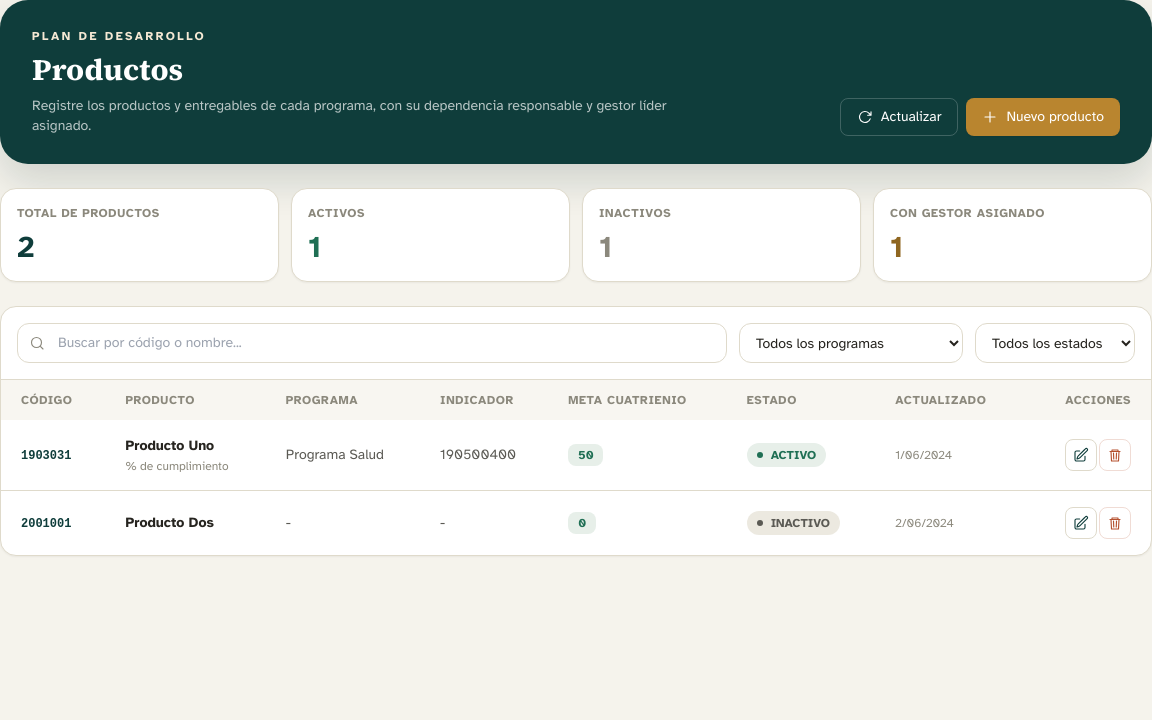
Test: ProductosPage › cierra los modales con el botón Cancelar
Expected: the text "Producto Uno" is shown, [126,437,214,454]
Click the button "Nuevo producto": {"x": 1043, "y": 117} [966,98,1120,136]
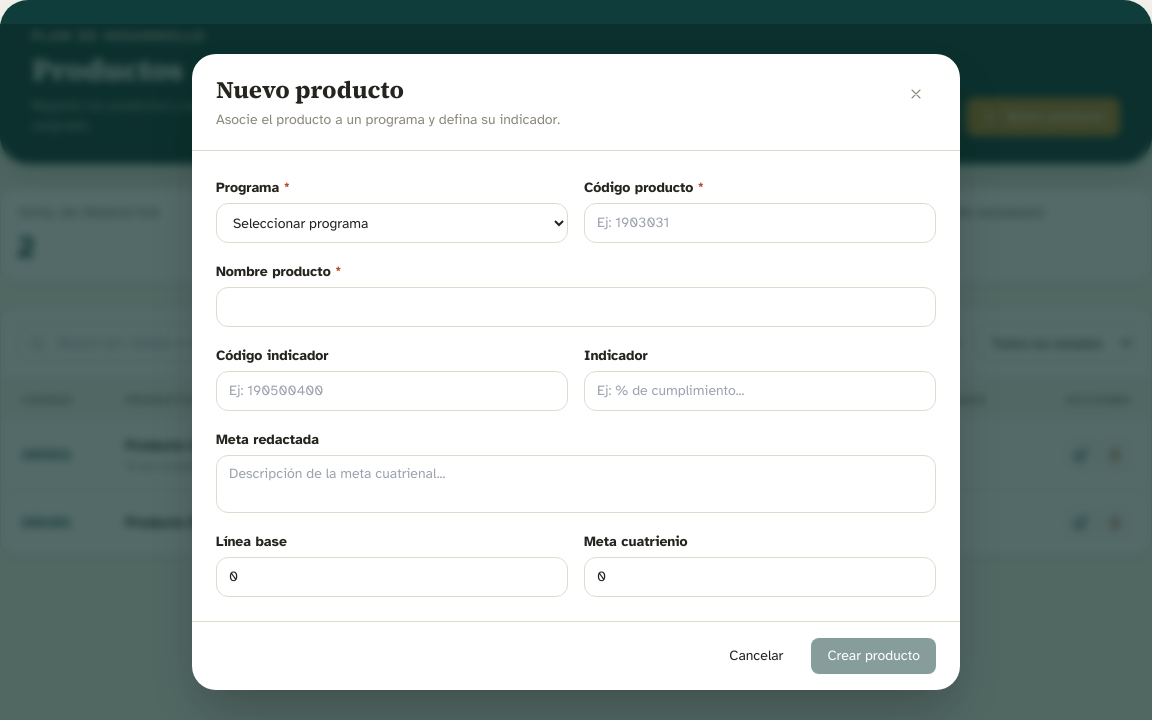
Click the button "Cancelar": {"x": 756, "y": 656} [713,638,799,674]
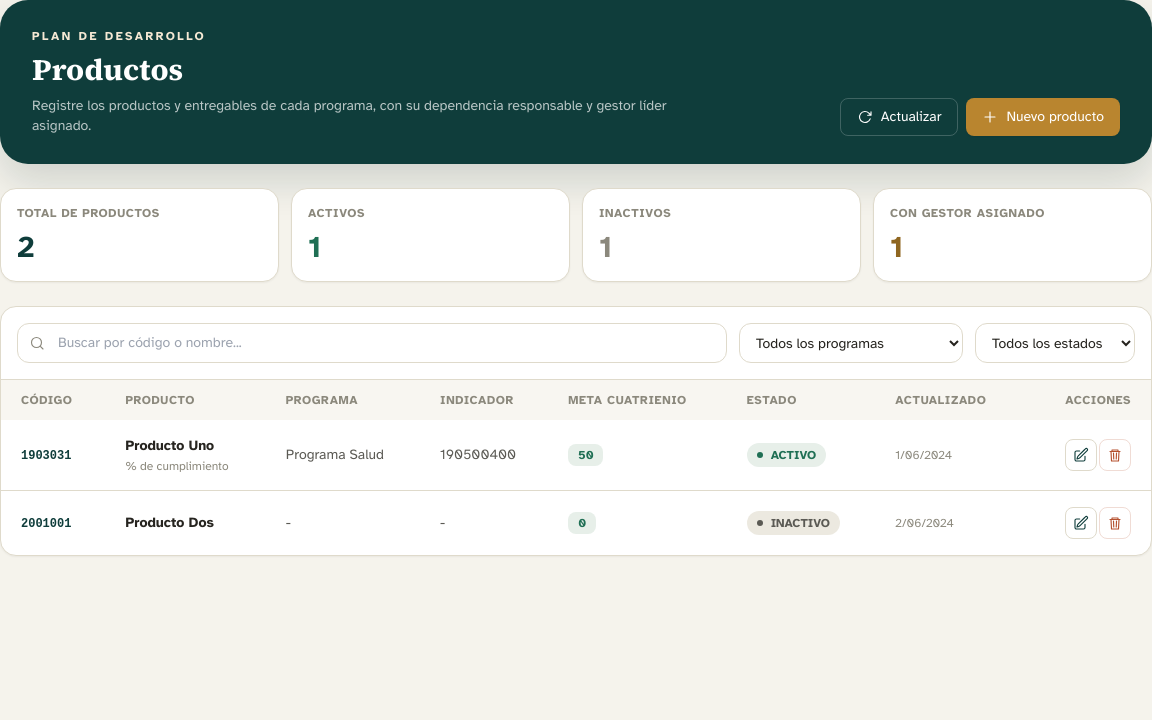
Now the dialog is gone
Click the button named "Editar" in the row of "1903031": {"x": 1081, "y": 455} [1065,439,1097,471]
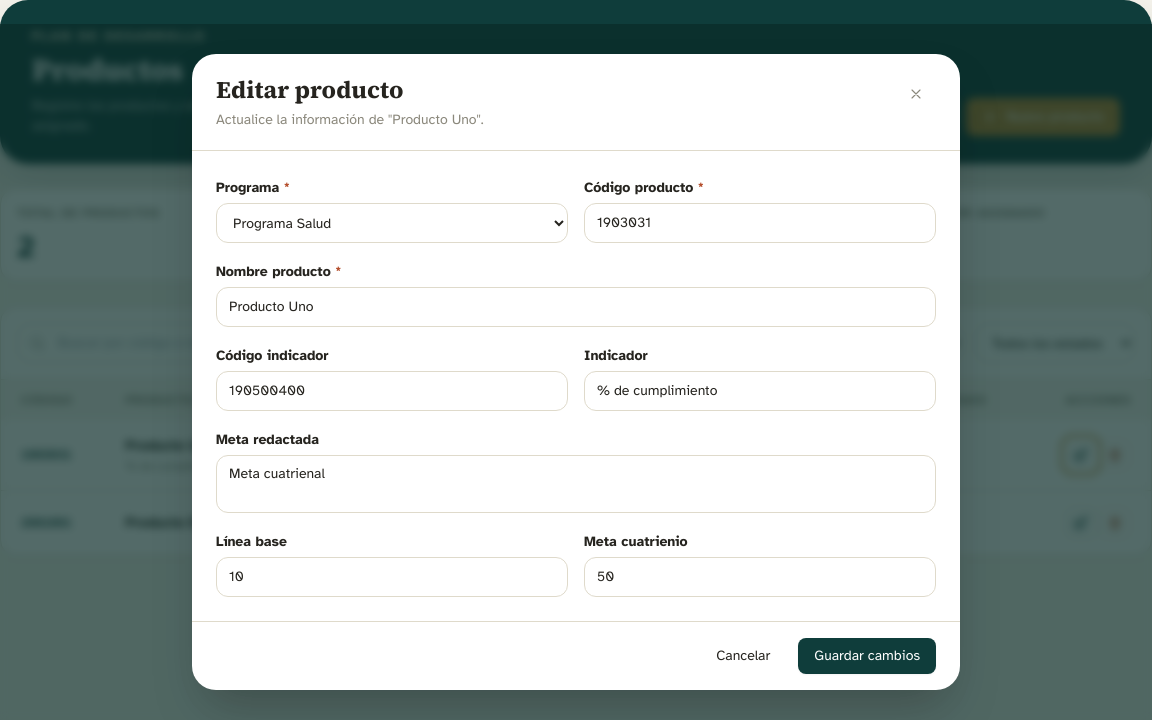
Click the button "Cancelar": {"x": 743, "y": 656} [700,638,786,674]
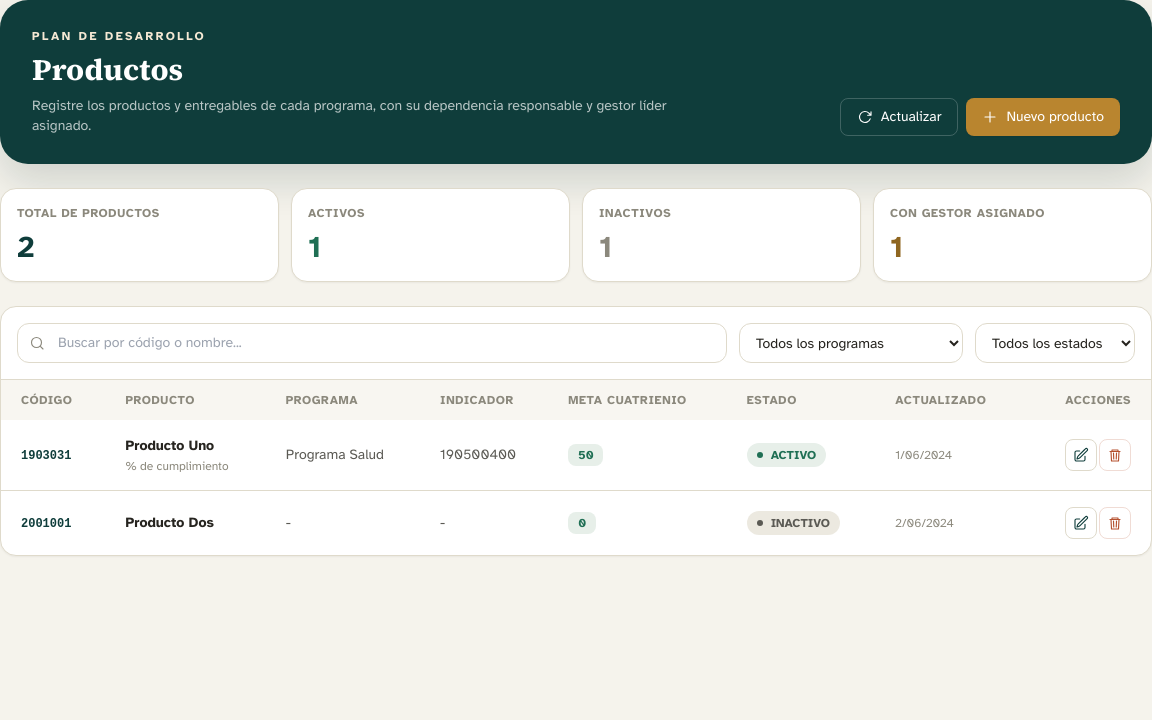
Now the dialog is gone
